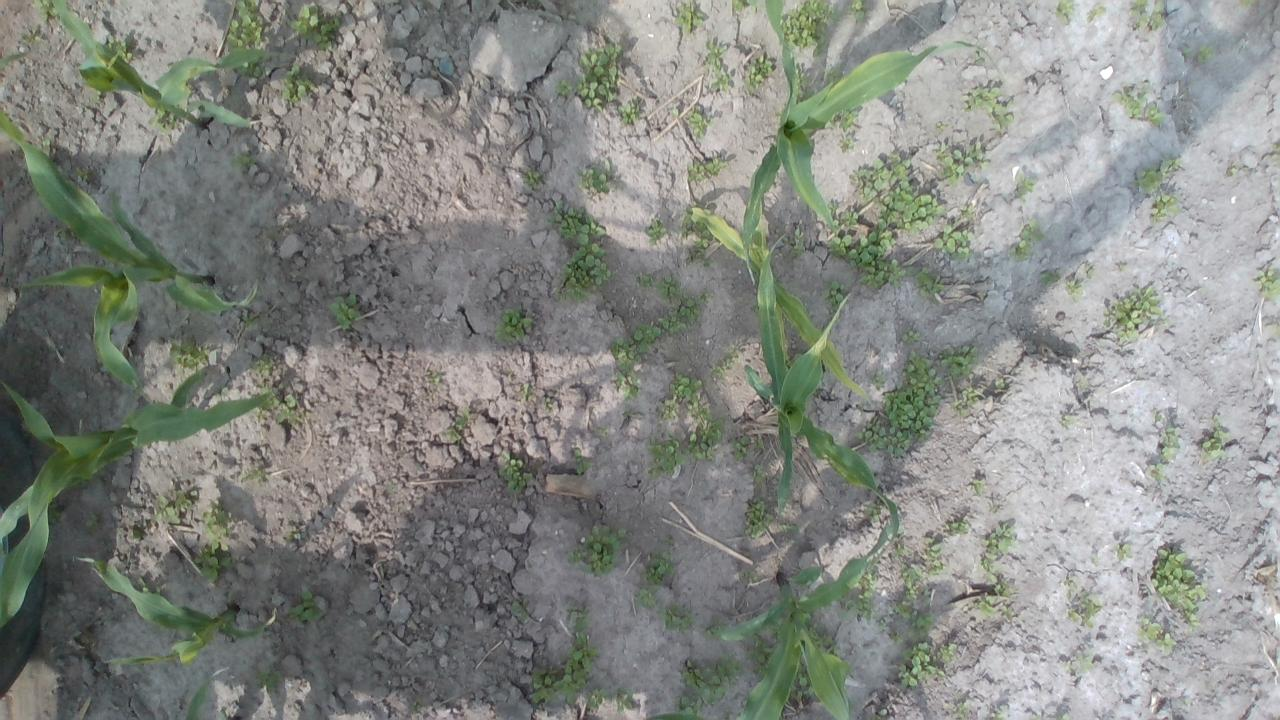Maize: (0, 110, 259, 390), (0, 372, 273, 630), (745, 31, 997, 293), (742, 232, 901, 572), (684, 206, 878, 413), (705, 521, 893, 720), (50, 0, 298, 132), (66, 552, 274, 666)
Weeds: (858, 350, 944, 462), (546, 198, 614, 304), (851, 156, 942, 235), (529, 605, 598, 707), (1150, 546, 1208, 634), (677, 376, 726, 464), (676, 653, 744, 716), (836, 228, 905, 290), (978, 520, 1018, 618), (610, 323, 657, 404), (1102, 284, 1163, 344), (568, 522, 630, 579), (655, 274, 711, 336), (576, 43, 624, 113), (781, 0, 839, 57), (896, 642, 956, 688), (898, 564, 935, 638), (960, 84, 1014, 132), (290, 3, 341, 52), (936, 140, 989, 187), (1111, 82, 1165, 124), (1066, 577, 1104, 629), (226, 0, 265, 50), (844, 570, 880, 624), (646, 434, 688, 479), (682, 209, 714, 268), (493, 304, 536, 345), (1136, 156, 1184, 192), (702, 38, 732, 92), (279, 62, 317, 104), (933, 222, 975, 260), (498, 452, 535, 495), (938, 343, 980, 380), (168, 334, 212, 369), (639, 548, 676, 589), (194, 544, 232, 583), (1010, 219, 1045, 261), (1200, 418, 1232, 462), (1138, 617, 1176, 654), (328, 293, 364, 332), (202, 500, 232, 546), (577, 158, 615, 194), (787, 659, 818, 703), (154, 490, 193, 524), (588, 686, 636, 712), (288, 589, 324, 623), (744, 498, 774, 538), (748, 634, 774, 680), (808, 623, 842, 657), (1130, 0, 1166, 32), (744, 54, 774, 92), (268, 391, 302, 424), (662, 602, 696, 634), (910, 267, 944, 298), (687, 157, 727, 183), (712, 342, 744, 374), (100, 33, 132, 65), (676, 1, 706, 34), (952, 386, 982, 417), (443, 408, 471, 441), (1254, 266, 1278, 303), (1158, 426, 1181, 464), (828, 200, 858, 229), (148, 109, 182, 134), (1152, 194, 1180, 224), (731, 434, 762, 461), (924, 535, 945, 574), (780, 227, 806, 257), (232, 58, 266, 80), (826, 107, 859, 129), (687, 107, 710, 138), (795, 68, 815, 103), (257, 666, 283, 692), (618, 96, 642, 124), (1064, 651, 1094, 673), (228, 150, 256, 172), (660, 388, 679, 420), (251, 352, 276, 376), (645, 220, 668, 246), (1014, 173, 1036, 200), (1182, 44, 1214, 62), (572, 448, 593, 475), (635, 586, 659, 608), (846, 0, 868, 24), (890, 526, 904, 562), (823, 282, 842, 308), (1063, 278, 1085, 300), (1054, 0, 1075, 23), (824, 62, 844, 86), (21, 26, 44, 46), (865, 505, 884, 527), (34, 0, 56, 19), (731, 1, 758, 16), (522, 168, 542, 188), (508, 600, 526, 622), (553, 82, 572, 102), (1039, 269, 1061, 286), (840, 132, 856, 155), (1087, 4, 1107, 22), (947, 518, 969, 534), (1152, 465, 1166, 490), (241, 310, 260, 328), (780, 521, 800, 538), (1116, 541, 1131, 563), (638, 271, 656, 289), (242, 468, 264, 482), (425, 370, 444, 385), (899, 330, 918, 344), (958, 205, 975, 220), (74, 167, 92, 181), (1270, 140, 1280, 164), (970, 478, 984, 495), (520, 381, 534, 398), (542, 395, 556, 412), (952, 702, 966, 719), (750, 467, 765, 482), (991, 378, 1006, 392), (1061, 415, 1076, 426), (1226, 165, 1238, 177), (85, 515, 96, 527), (1085, 267, 1093, 275)
